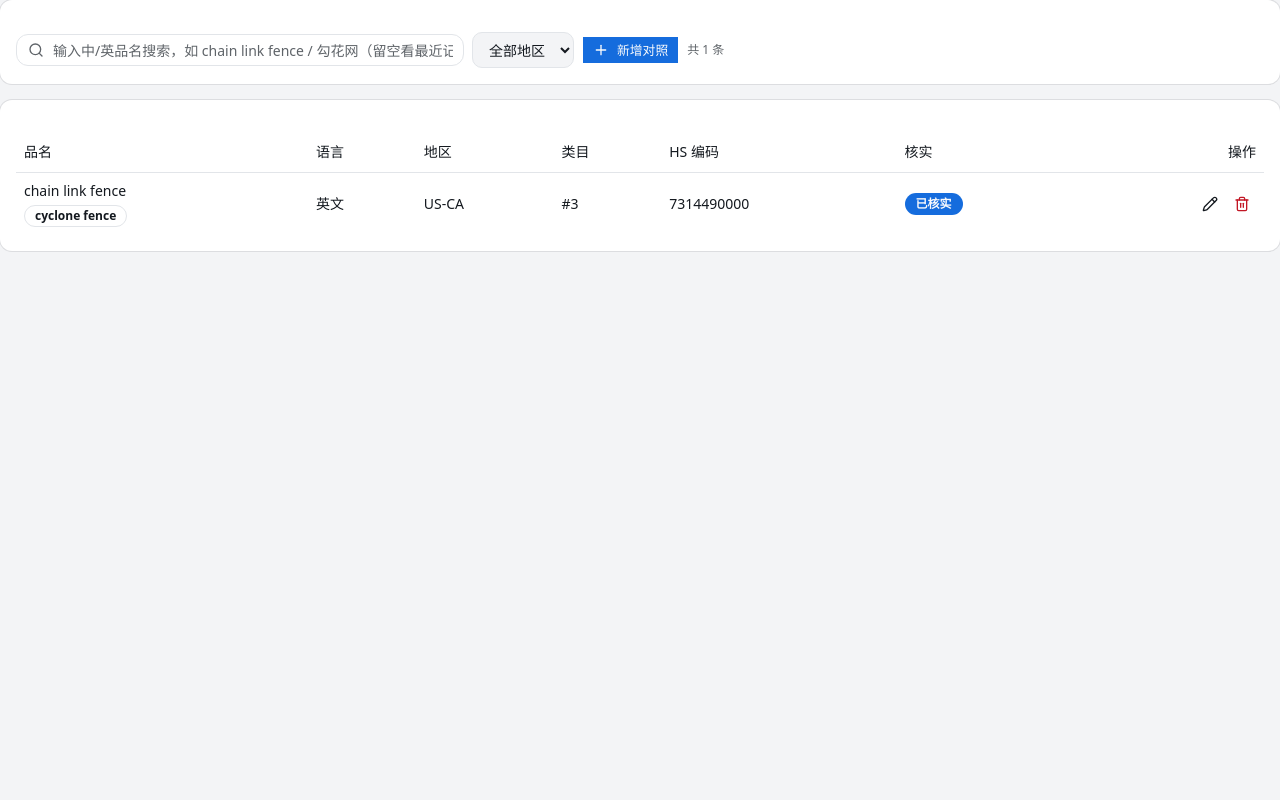
NameMappingPanel · 编辑（PATCH） › 后端 409 → 弹窗保留、错误原文可见（不吞成通用失败）
The image size is (1280, 800).
Click the button named "编辑 chain link fence": point(1210, 204) [1196,190,1224,218]
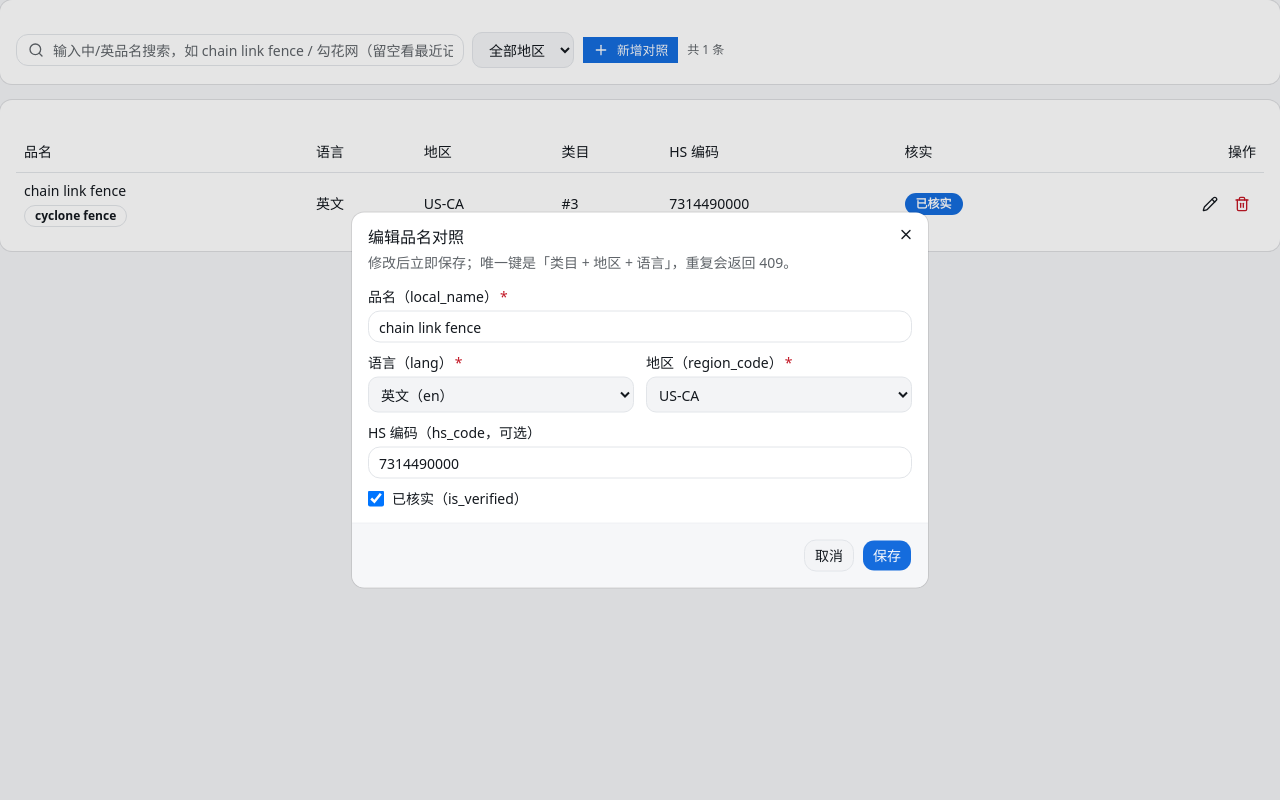
Click the button "保存": point(887, 556) [862,540,912,572]
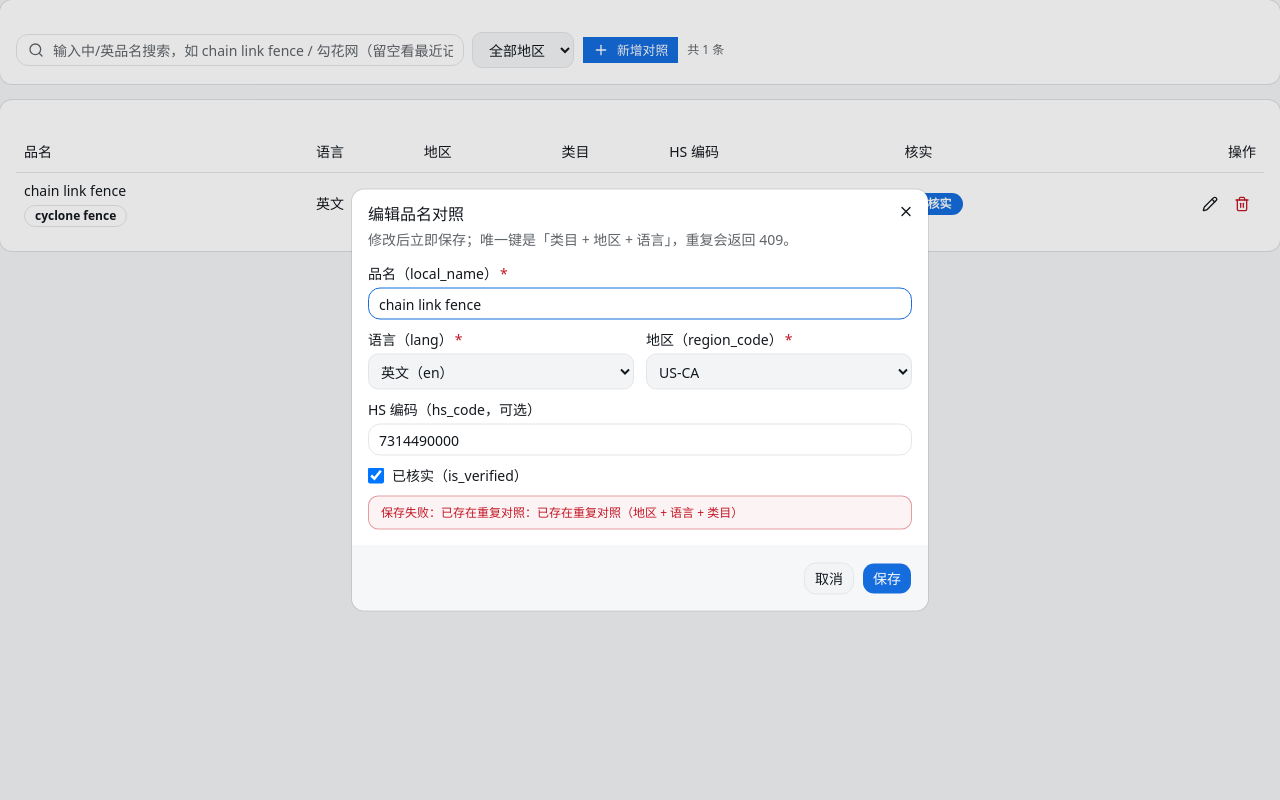
Check: the text "编辑品名对照" is shown, box [368,202,464,224]
Check: the message "保存失败：已存在重复对照：已存在重复对照（地区 + 语言 + 类目）" is shown, box [368,496,912,530]
